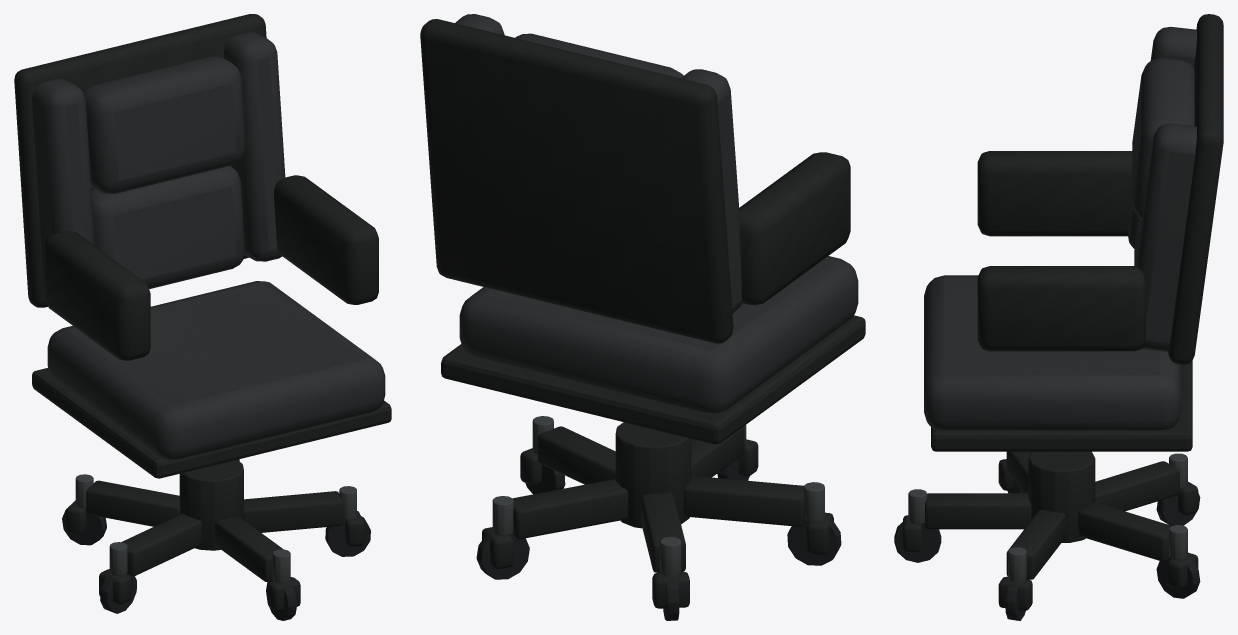
Rendered from chair_basic_lod1.glb.
3 views of the same model, side by side, from view 1: azimuth 30°, elevation 25°; view 2: azimuth 150°, elevation 25°; view 3: azimuth 270°, elevation 25° (orthographic). The views are drawn at different scales.
Parts seen in each view (by area): view 1: OfficeLeather_LOD1, OfficePlastic_LOD1, OfficeMetal_LOD1, OfficeCasterRubberSet_LOD1; view 2: OfficePlastic_LOD1, OfficeLeather_LOD1, OfficeMetal_LOD1, OfficeCasterRubberSet_LOD1; view 3: OfficePlastic_LOD1, OfficeLeather_LOD1, OfficeMetal_LOD1, OfficeCasterRubberSet_LOD1.
Boxes of the visible parts, left/top/right/bottom form: OfficeLeather_LOD1: left=32, top=32, right=385, bottom=459; OfficePlastic_LOD1: left=14, top=14, right=391, bottom=581; OfficeMetal_LOD1: left=66, top=474, right=364, bottom=611; OfficeCasterRubberSet_LOD1: left=62, top=503, right=370, bottom=620; OfficePlastic_LOD1: left=420, top=19, right=865, bottom=572; OfficeLeather_LOD1: left=455, top=14, right=858, bottom=413; OfficeMetal_LOD1: left=482, top=416, right=833, bottom=608; OfficeCasterRubberSet_LOD1: left=476, top=449, right=841, bottom=620; OfficePlastic_LOD1: left=925, top=14, right=1223, bottom=579; OfficeLeather_LOD1: left=924, top=26, right=1196, bottom=430; OfficeMetal_LOD1: left=903, top=453, right=1198, bottom=610; OfficeCasterRubberSet_LOD1: left=894, top=480, right=1200, bottom=620.
Bounding box in the file's own units: 0.6005 × 1.01 × 0.6168.
Materials: 4 (2 with a texture image).
